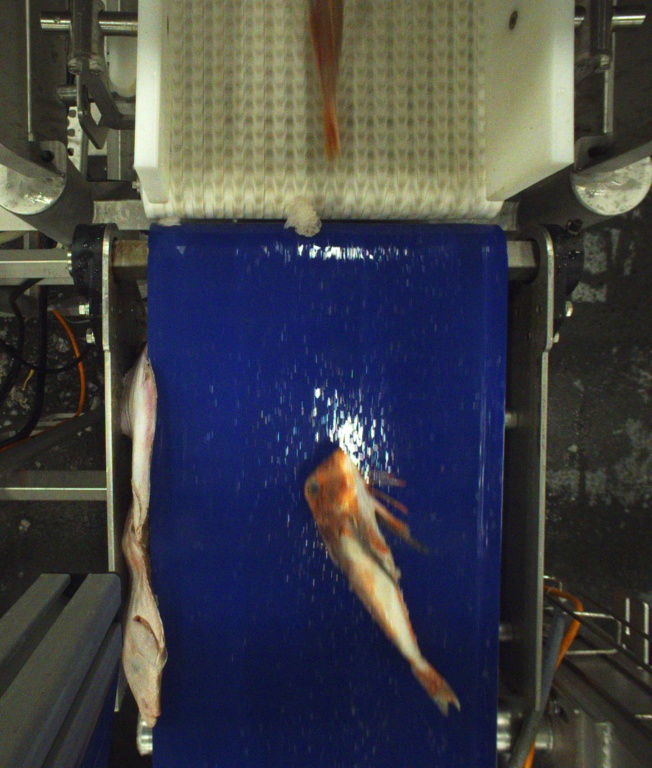GUU: (308, 0, 345, 164)
